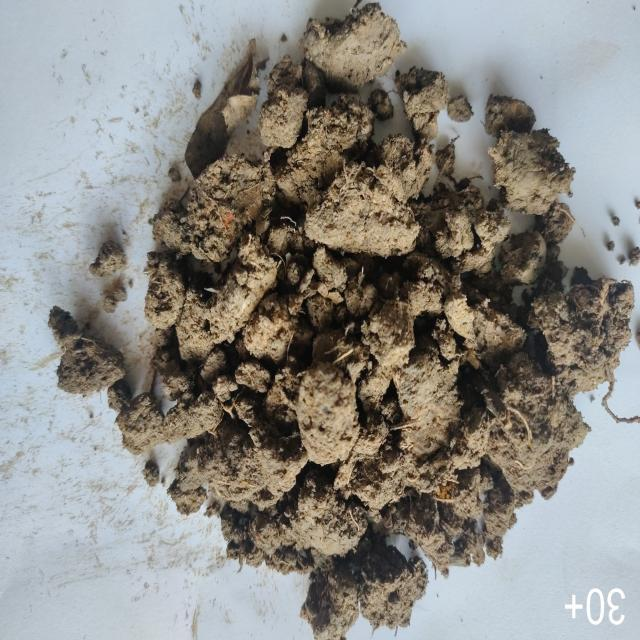soil: (232, 121, 430, 517)
